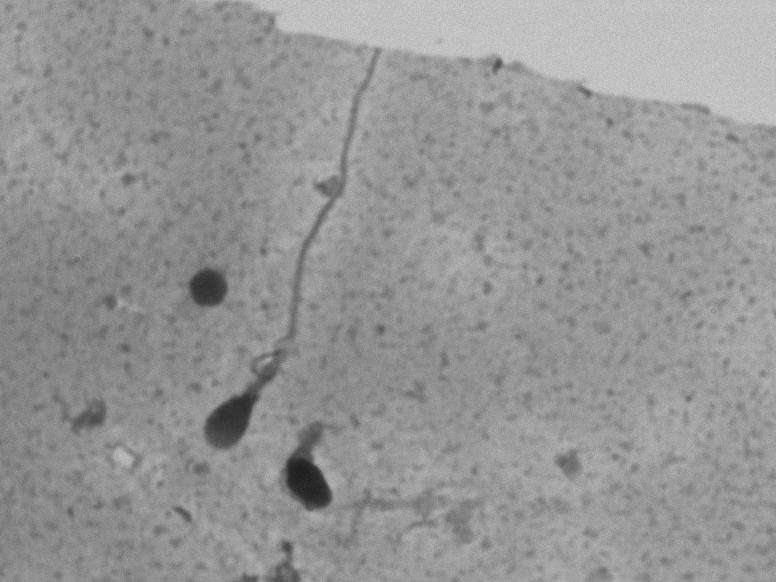Abnormal: (188, 67, 403, 467)
